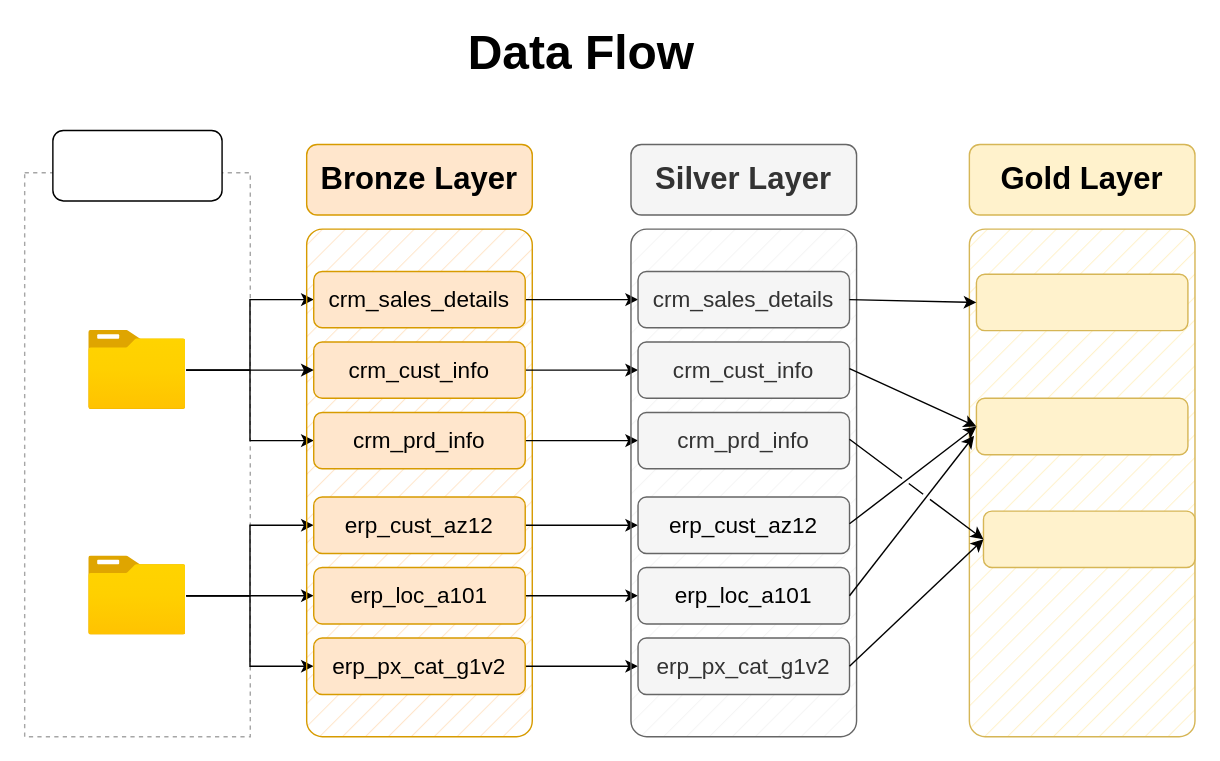
Image size: 1220x761. Some labels were removed from this diagram. Here are the shapes that lost their labels. From the top down, the box of each, then its label:
(51, 129, 222, 201): Sources
(975, 273, 1188, 331): fact_sales
(88, 330, 185, 409): CRM
(975, 397, 1188, 455): dim_customers
(982, 510, 1195, 568): dim_products
(88, 556, 185, 634): ERP
